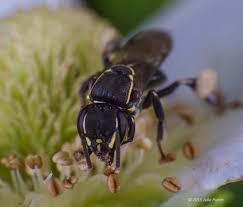Meliponula: (73, 19, 183, 184)
